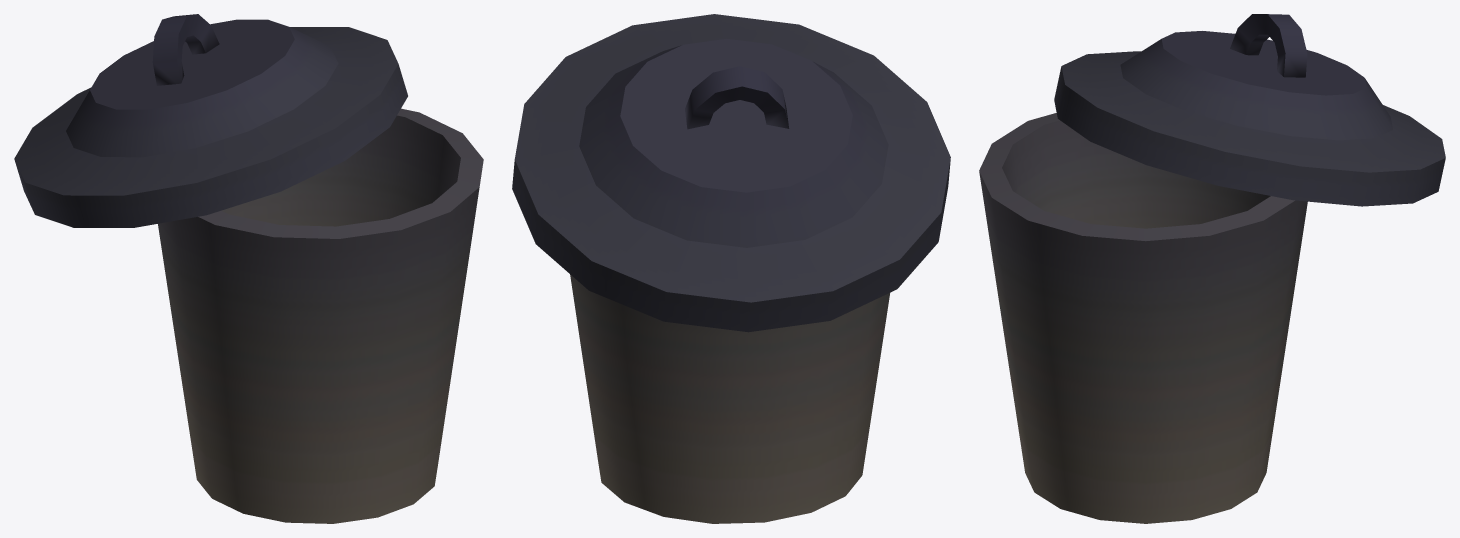
Rendered from papelera.fbx.
3 views of the same model, side by side, from view 1: azimuth 30°, elevation 25°; view 2: azimuth 150°, elevation 25°; view 3: azimuth 270°, elevation 25° (orthographic). The views are drawn at different scales.
Parts seen in each view (by area): view 1: Cylinder; view 2: Cylinder; view 3: Cylinder.
Part boxes in pixels (bbox=[...]): Cylinder: bbox=[14, 14, 483, 523]; Cylinder: bbox=[512, 14, 950, 523]; Cylinder: bbox=[979, 14, 1445, 523].
Size of the model in its own units: 84.74 by 93.98 by 93.52.
